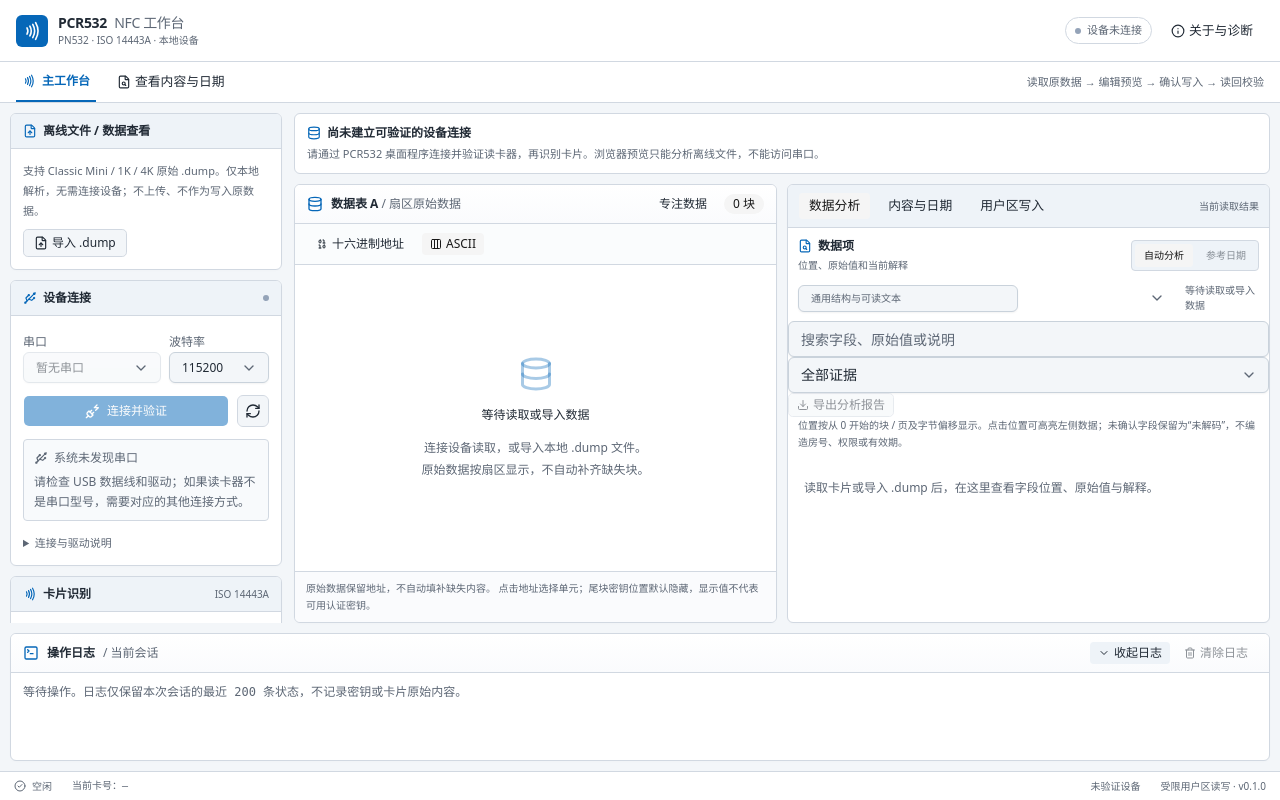
it: can collapse and restore the session log without clearing it or issuing card commands
Step 1. Click the button "收起日志" → click(1130, 653), box [1089,641,1171,665]
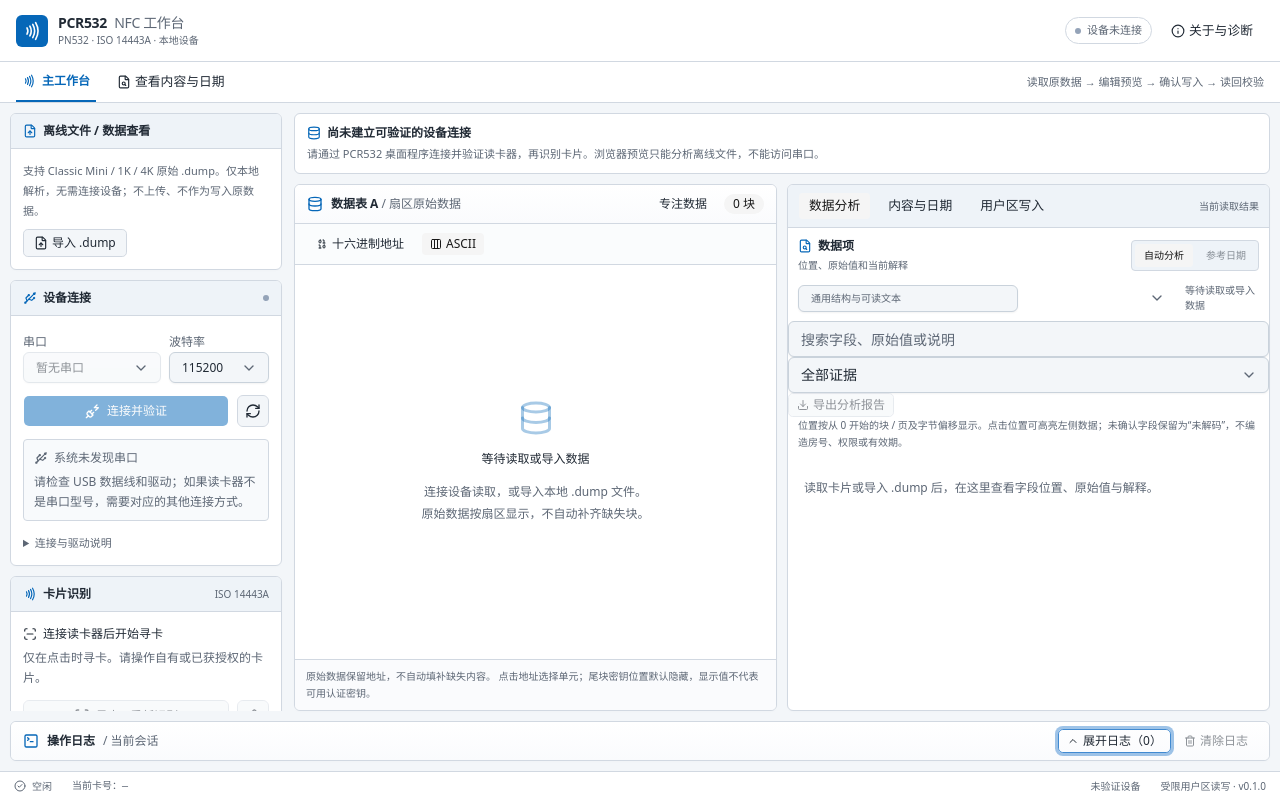
Check: the button "展开日志（0）" is collapsed
Step 2. Click the button "展开日志（0）" → click(1115, 741), box [1058,729,1171,753]
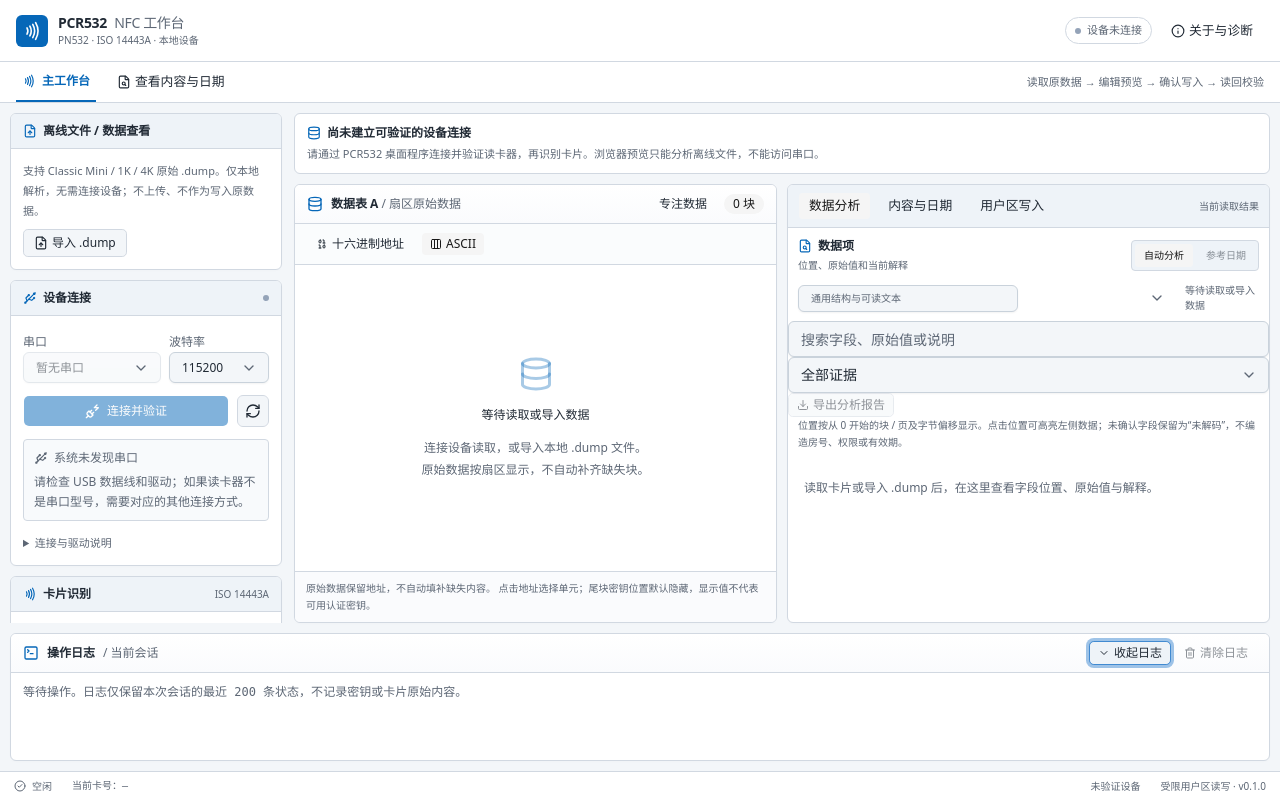
Check: the element showing "等待操作。日志仅保留本次会话的最近 200 条状态，不记录密钥或卡片原始内容。" is shown, box [23,685,467,699]
